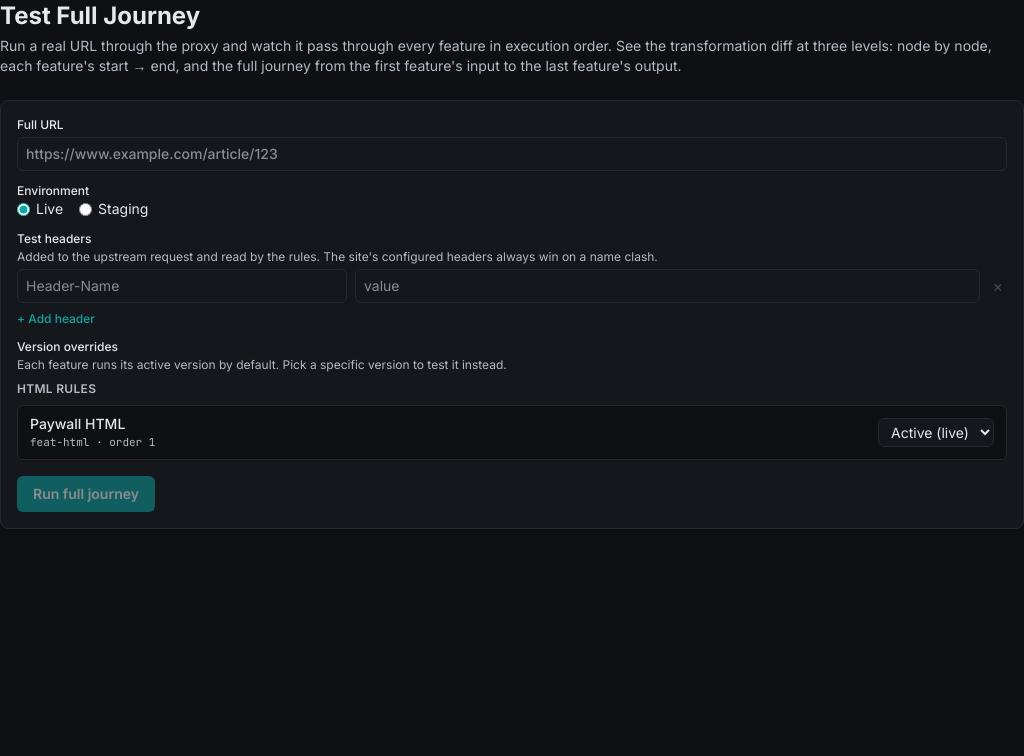
FullJourneyClient › reverting a version select back to Active removes the override
The image size is (1024, 756).
In the field labelled "Full URL": (512, 154) [17,137,1007,171], type "https://x.test/a"
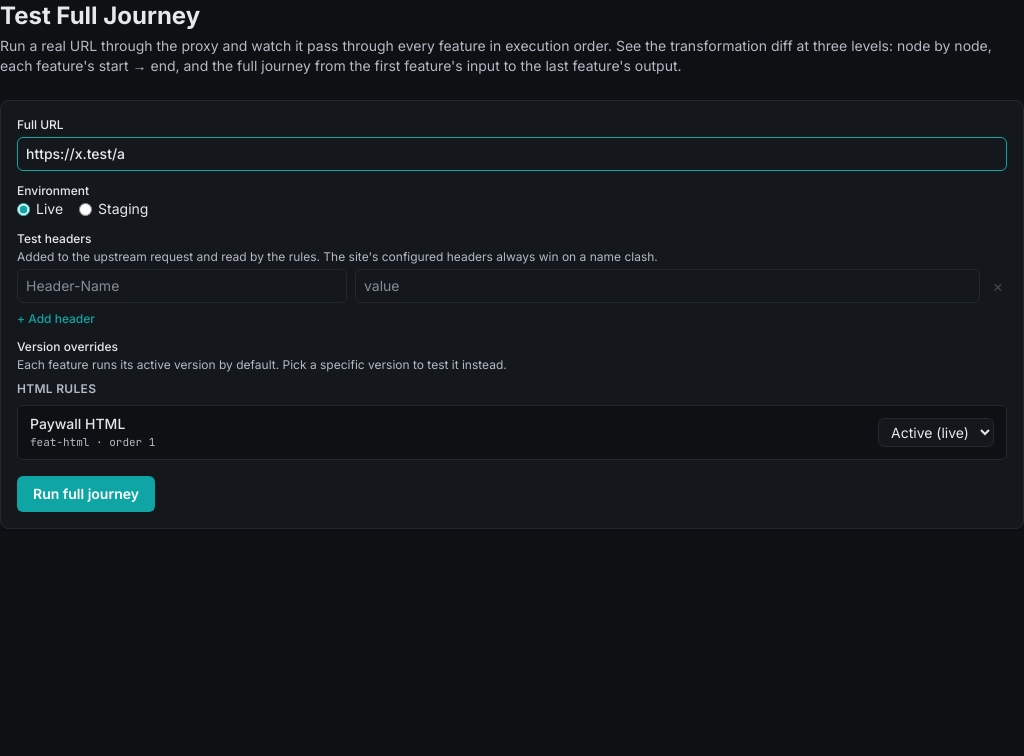
Select "v5" in the dropdown named "Version for Paywall HTML": (936, 432) [878,418,994,447]
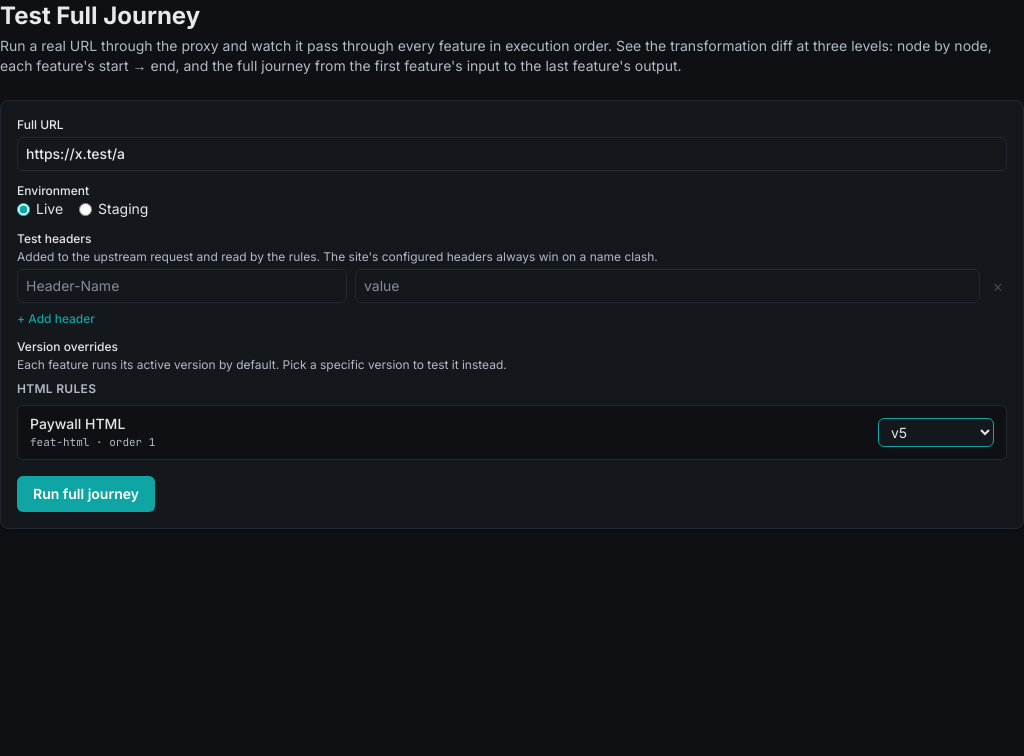
Select "Active (live)" in the dropdown named "Version for Paywall HTML": (936, 432) [878,418,994,447]
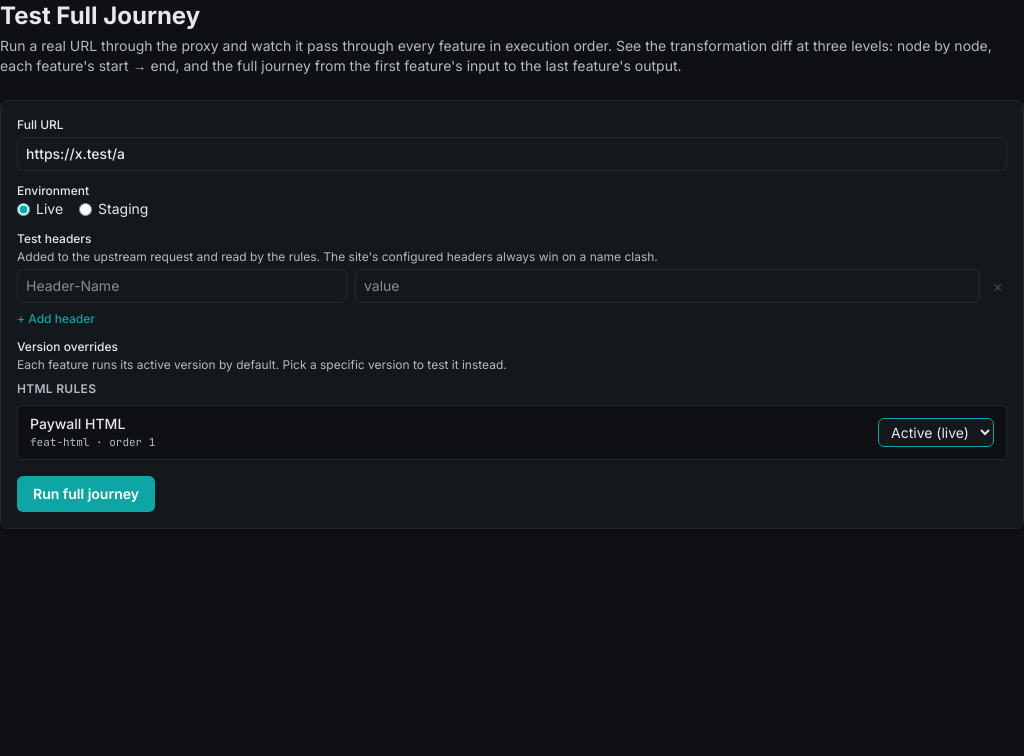
Click the button "Run full journey": (86, 494) [17,476,155,512]
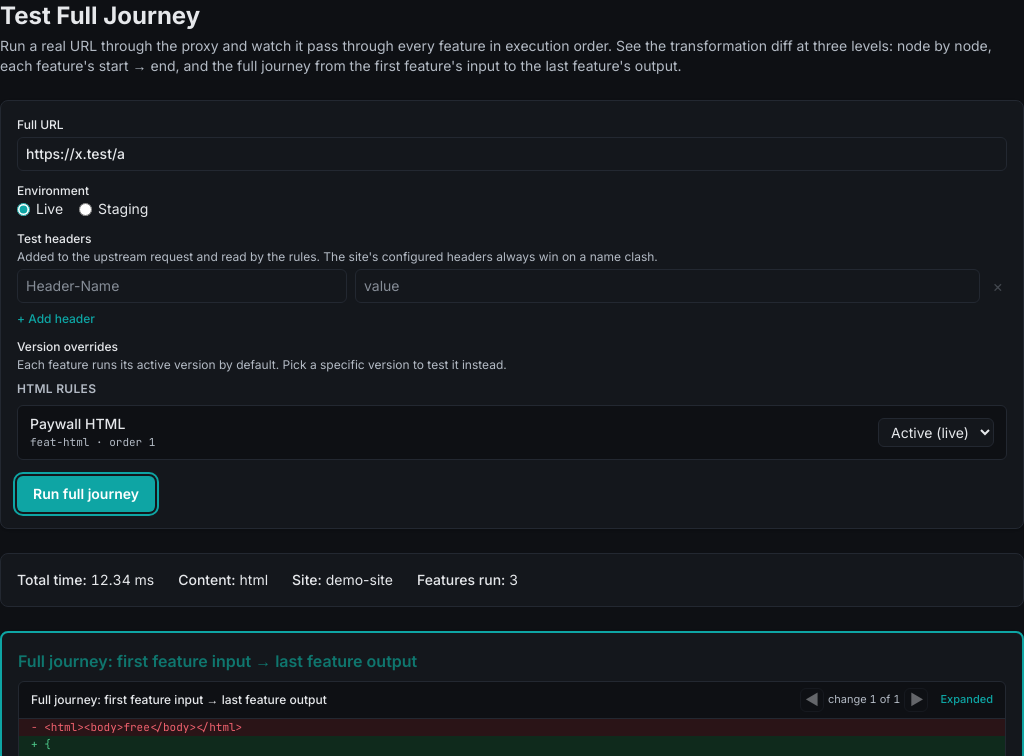
Check: the text "12.34 ms" is shown, box [91,570,154,588]
